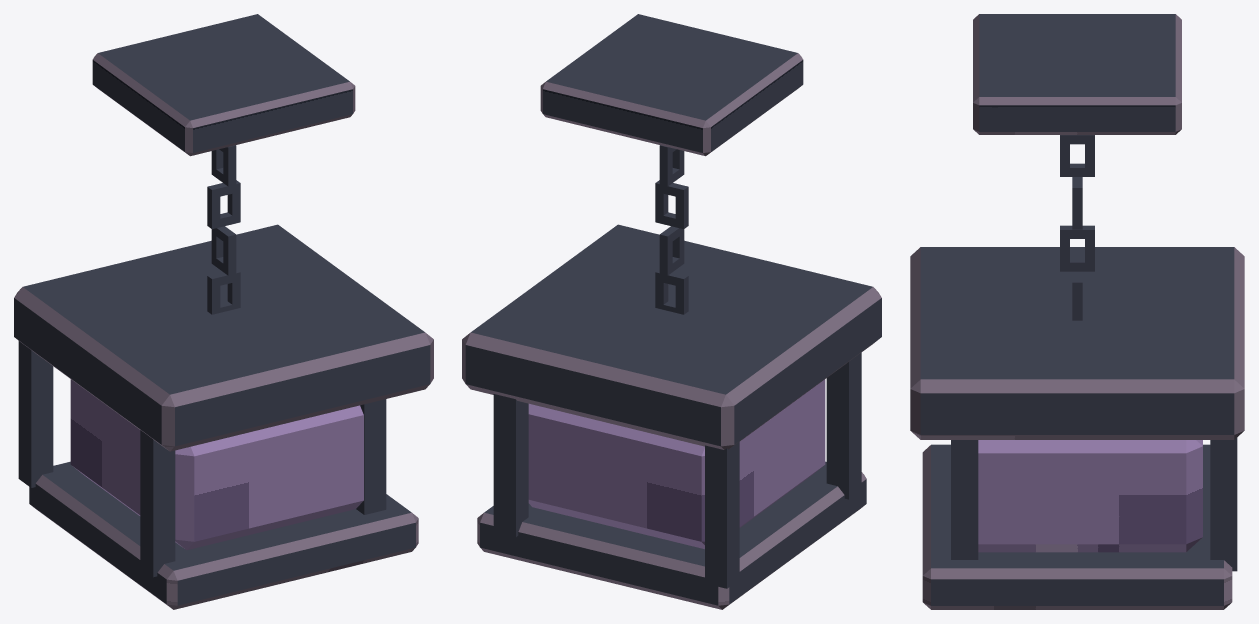
The model's file is placed_uv_pendant_lit_body.obj.
The picture shows the model from 3 angles, left to right: view 1: azimuth 30°, elevation 25°; view 2: azimuth 150°, elevation 25°; view 3: azimuth 270°, elevation 25°; orthographic projection. The views are drawn at different scales.
Visible parts, largest first — view 1: model; view 2: model; view 3: model.
Boxes of the visible parts, bbox=[...] form: model: bbox=[14, 14, 433, 609]; model: bbox=[462, 14, 881, 609]; model: bbox=[910, 14, 1244, 609].
Size of the model in its own units: 0.5 by 0.8125 by 0.5.
